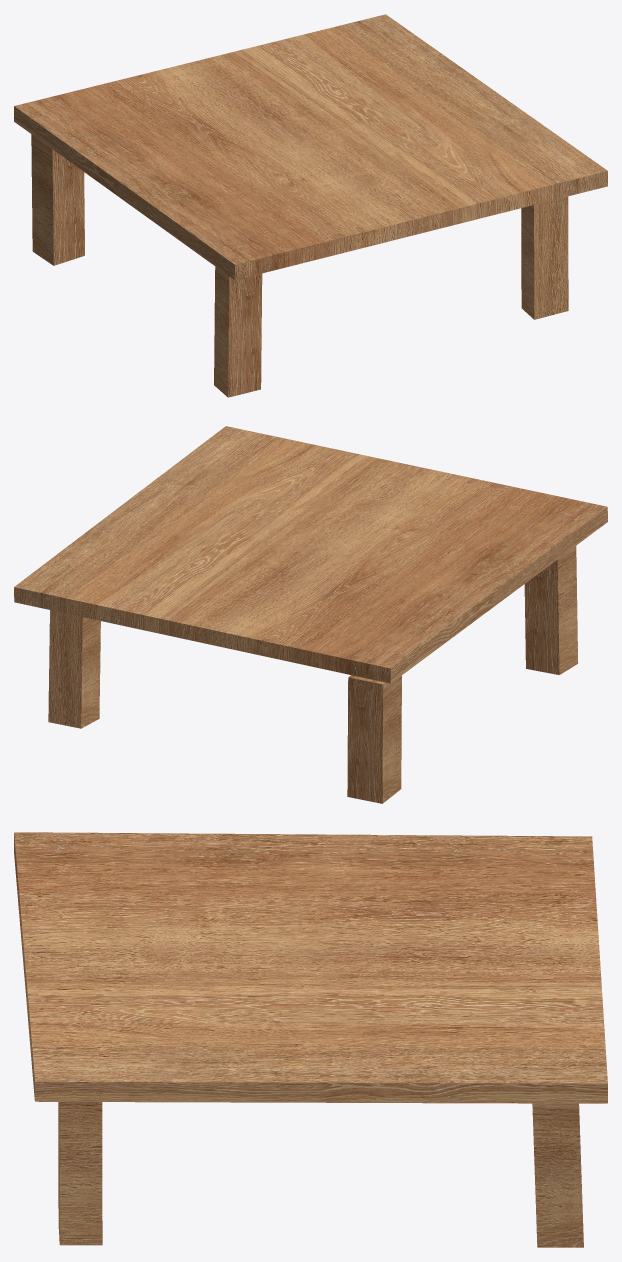
The model's file is 19665_ours.glb.
3 renders of one model, top to bottom at view 1: azimuth 30°, elevation 25°; view 2: azimuth 150°, elevation 25°; view 3: azimuth 270°, elevation 25°, orthographic. The views are drawn at different scales.
Parts seen in each view (by area): view 1: ParentEmpty; view 2: ParentEmpty; view 3: ParentEmpty.
Part boxes in pixels (x1=…): ParentEmpty: x1=14, y1=14, x2=607, y2=397; ParentEmpty: x1=14, y1=426, x2=607, y2=803; ParentEmpty: x1=14, y1=832, x2=607, y2=1247.
Size of the model in its own units: 0.969 by 0.3641 by 1.
Materials: 1 (1 with a texture image).
